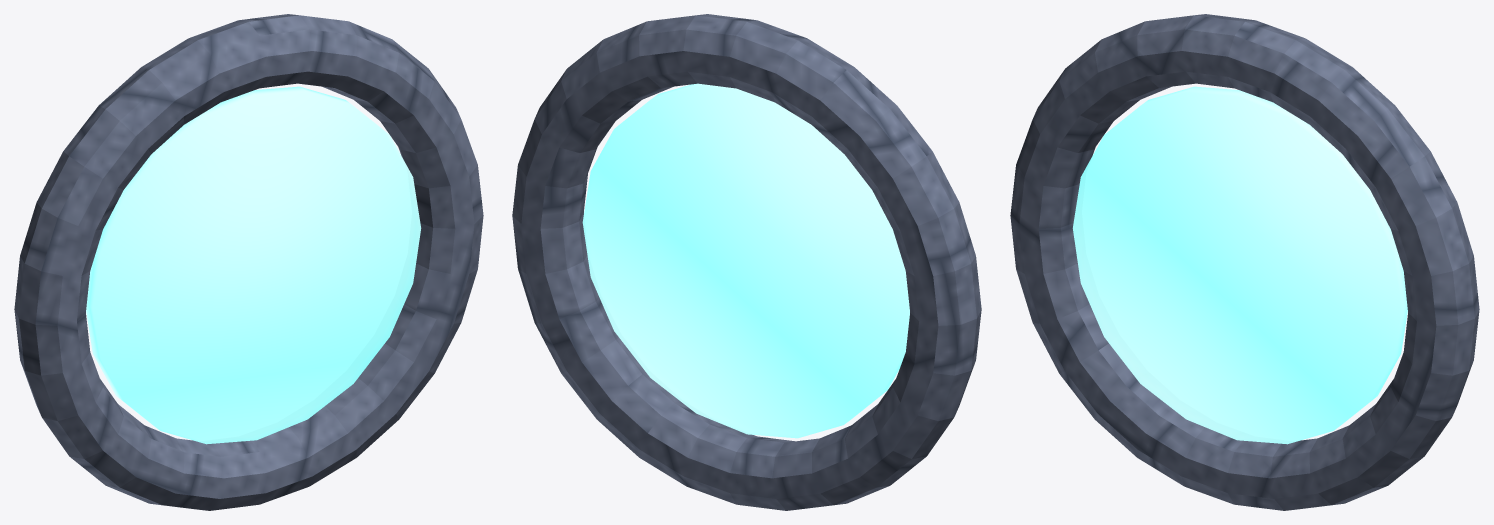
The model's file is portal.glb.
3 renders of one model, left to right at view 1: azimuth 30°, elevation 25°; view 2: azimuth 150°, elevation 25°; view 3: azimuth 330°, elevation 25°, orthographic.
Visible parts, largest first — view 1: Vortex, Torus; view 2: Torus, Vortex; view 3: Vortex, Torus.
Boxes of the visible parts, box(x1,y1,x2,y2) form: Vortex: box(86, 86, 421, 444); Torus: box(14, 14, 483, 510); Torus: box(512, 14, 981, 510); Vortex: box(582, 83, 909, 438); Vortex: box(1072, 86, 1407, 444); Torus: box(1010, 14, 1479, 510).
Size of the model in its own units: 2.66 by 2.66 by 0.3443.
2 materials, 2 textured.
